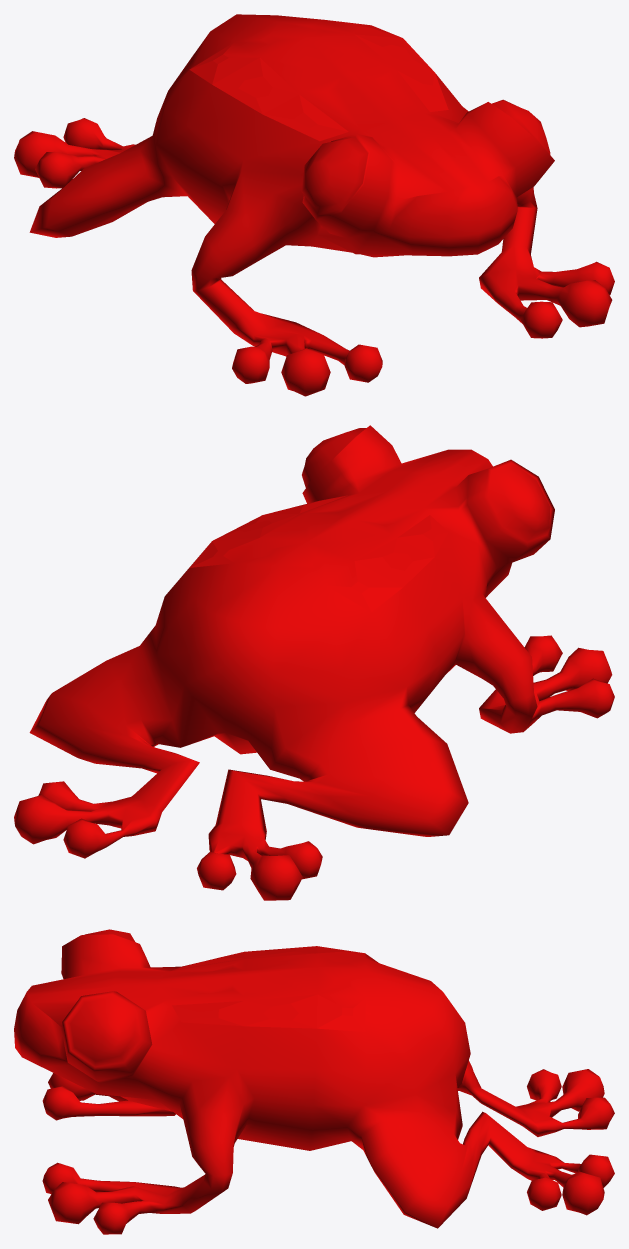
3 views of the same model, one above another, from view 1: azimuth 30°, elevation 25°; view 2: azimuth 150°, elevation 25°; view 3: azimuth 270°, elevation 25° (orthographic). The views are drawn at different scales.
Parts seen in each view (by area): view 1: Fish_Frog; view 2: Fish_Frog; view 3: Fish_Frog.
Part boxes in pixels (x1,y1,x2,y2): Fish_Frog: [14, 14, 614, 396]; Fish_Frog: [14, 425, 614, 900]; Fish_Frog: [14, 929, 614, 1234].
Size of the model in its own units: 0.2163 by 0.1101 by 0.301.
